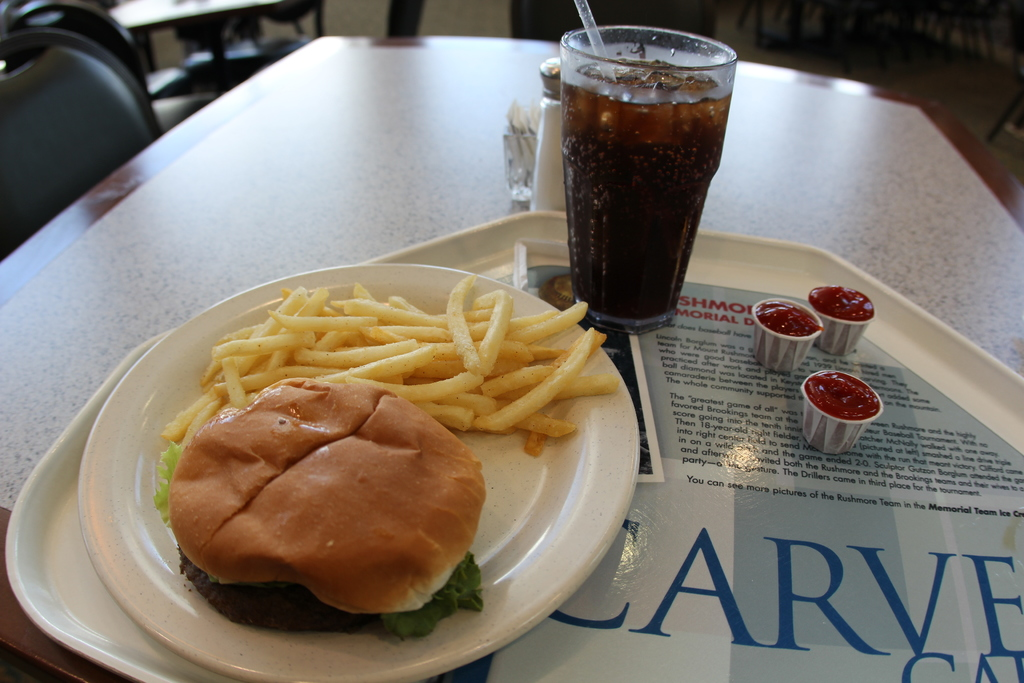French fries: (216, 281, 615, 458)
